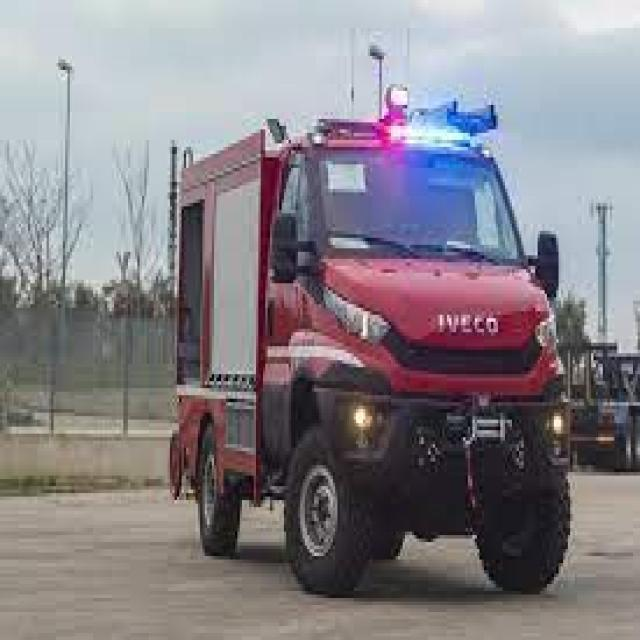emergency: (173, 86, 573, 624)
